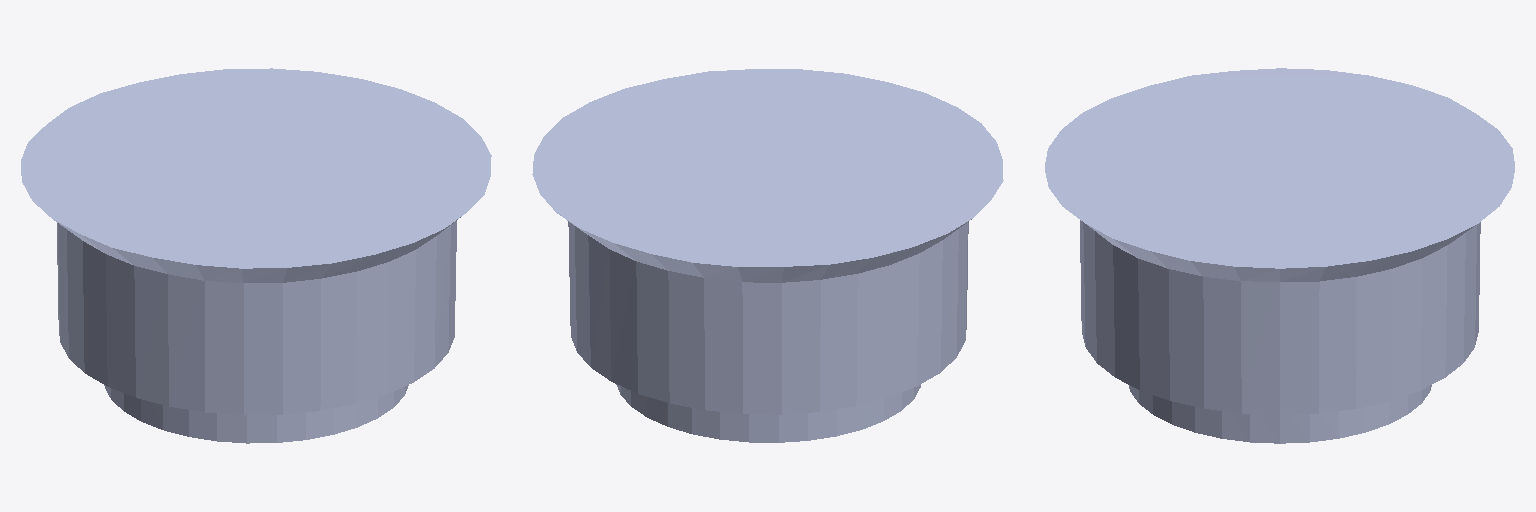
The robot description file, URDF, robot "P4.SLDASM":
<robot name="P4.SLDASM">
	<link name="Base">
		<inertial>
			<origin xyz="-0.0082097 0.0025216 -0.14078" rpy="0 0 0" />
			<mass value="11.969" />
			<inertia ixx="0.025218" ixy="-0.0010866" ixz="0.0012177" iyy="0.030018" iyz="0.00020314" izz="0.048411" />
		</inertial>
		<visual>
			<origin xyz="0 0 0" rpy="0 0 0" />
			<geometry>
				<mesh filename="meshes/P4/Base.STL" />
			</geometry>
			<material name="">
				<color rgba="0.79216 0.81961 0.93333 1" />
			</material>
		</visual>
		<collision>
			<origin xyz="0 0 0" rpy="0 0 0" />
			<geometry>
				<mesh filename="meshes/P4/Base_collision.STL" />
			</geometry>
		</collision>
	</link>
	<link name="Link_0">
		<inertial>
			<origin xyz="0.163303065400731 -4.81317444424627E-07 -0.0199129806957488" rpy="0 0 0" />
			<mass value="11.8138142072387" />
			<inertia ixx="0.022665817936265195" ixy="8.407964966035086e-06" ixz="-0.00554305607961208" iyy="0.1719591923681325" iyz="-4.222180950686796e-07" izz="0.18162079843609566" />
		</inertial>
		<visual>
			<origin xyz="0 0 0" rpy="0 0 0" />
			<geometry>
				<mesh filename="meshes/P4/Link_0.STL" />
			</geometry>
			<material name="">
				<color rgba="0.79216 0.81961 0.93333 1" />
			</material>
		</visual>
		<collision>
			<origin xyz="0 0 0" rpy="0 0 0" />
			<geometry>
				<mesh filename="meshes/P4/Link_0_a_collision.STL" />
			</geometry>
		</collision>
		<collision>
			<origin xyz="0 0 0" rpy="0 0 0" />
			<geometry>
				<mesh filename="meshes/P4/Link_0_b_collision.STL" />
			</geometry>
		</collision>
		<collision>
			<origin xyz="0 0 0" rpy="0 0 0" />
			<geometry>
				<mesh filename="meshes/P4/Link_0_c_collision.STL" />
			</geometry>
		</collision>
	</link>
	<joint name="Joint_0" type="continuous">
		<origin xyz="0.0 0.0 0.0" rpy="0 0 0" />
		<parent link="Base" />
		<child link="Link_0" />
		<axis xyz="0 0 1" />
		<limit lower="0" upper="0" effort="0" velocity="0" />
	</joint>
	<link name="Link_1">
		<inertial>
			<origin xyz="0.0225468852658368 1.65637178824413E-05 0.0268405681124005" rpy="0 0 0" />
			<mass value="4.20821788232458" />
			<inertia ixx="0.005453924976162778" ixy="-1.3161749130459695e-06" ixz="-0.00010182112684579557" iyy="0.00947374577056641" iyz="-1.4226030768616688e-08" izz="0.011576283010229317" />
		</inertial>
		<visual>
			<origin xyz="0 0 0" rpy="0 0 0" />
			<geometry>
				<mesh filename="meshes/P4/Link_1.STL" />
			</geometry>
			<material name="">
				<color rgba="0.79216 0.81961 0.93333 1" />
			</material>
		</visual>
		<collision>
			<origin xyz="0 0 0" rpy="0 0 0" />
			<geometry>
				<mesh filename="meshes/P4/Link_1_collision.STL" />
			</geometry>
		</collision>
	</link>
	<joint name="Joint_1" type="continuous">
		<origin xyz="0.37502 0 0.076637" rpy="0 0 0" />
		<parent link="Link_0" />
		<child link="Link_1" />
		<axis xyz="0 0 1" />
		<limit lower="0" upper="0" effort="0" velocity="0" />
	</joint>
	<link name="Link_2">
		<inertial>
			<origin xyz="-7.95840576487544E-05 -0.0323353341384257 0.0554626231739176" rpy="0 0 0" />
			<mass value="2.22462215939643" />
			<inertia ixx="0.006012004182390321" ixy="5.74465130673749e-07" ixz="-8.09955717317447e-08" iyy="0.005492624336623406" iyz="0.0017414014760656932" izz="0.0036359650259675616" />
		</inertial>
		<visual>
			<origin xyz="0 0 0" rpy="0 0 0" />
			<geometry>
				<mesh filename="meshes/P4/Link_2.STL" />
			</geometry>
			<material name="">
				<color rgba="0.79216 0.81961 0.93333 1" />
			</material>
		</visual>
		<collision>
			<origin rpy="0.367174 0 0" xyz="-0.002 -0.0225 0.0395" />
			<geometry>
				<capsule radius="0.066" length="0.125356" />
			</geometry>
		</collision>
		<collision>
			<origin rpy="-0.367174 0 0" xyz="-0.002 0.0225 0.0395" />
			<geometry>
				<capsule radius="0.066" length="0.125356" />
			</geometry>
		</collision>
		<collision>
			<origin rpy="1.570796 0 0" xyz="-0.002 0 0.107" />
			<geometry>
				<capsule radius="0.066" length="0.09" />
			</geometry>
		</collision>
	</link>
	<joint name="Joint_2" type="continuous">
		<origin xyz="0.1645 0 0.025" rpy="0 1.5708 0" />
		<parent link="Link_1" />
		<child link="Link_2" />
		<axis xyz="0 0 1" />
		<limit lower="0" upper="0" effort="0" velocity="0" />
	</joint>
	<link name="Link_3">
		<inertial>
			<origin xyz="-0.111386270924211 -0.064461763956462 0.057248957436866" rpy="0 0 0" />
			<mass value="6.98383900274924" />
			<inertia ixx="0.02337229063757182" ixy="-0.026811824136969722" ixz="-0.004907570831452568" iyy="0.06870234062730633" iyz="-0.002444438274402383" izz="0.08201720534182669" />
		</inertial>
		<visual>
			<origin xyz="0 0 0" rpy="0 0 0" />
			<geometry>
				<mesh filename="meshes/P4/Link_3.STL" />
			</geometry>
			<material name="">
				<color rgba="0.79216 0.81961 0.93333 1" />
			</material>
		</visual>
		<collision>
			<origin xyz="0 0 0" rpy="0 0 0" />
			<geometry>
				<mesh filename="meshes/P4/Link_3_a_collision.STL" />
			</geometry>
		</collision>
		<collision>
			<origin xyz="0 0 0" rpy="0 0 0" />
			<geometry>
				<mesh filename="meshes/P4/Link_3_b_collision.STL" />
			</geometry>
		</collision>
	</link>
	<joint name="Joint_3" type="continuous">
		<origin xyz="0 -0.045 0.1088" rpy="-1.5708 0 0" />
		<parent link="Link_2" />
		<child link="Link_3" />
		<axis xyz="0 0 1" />
		<limit lower="0" upper="0" effort="0" velocity="0" />
	</joint>
	<link name="Link_4">
		<inertial>
			<origin xyz="-1.31475746999454E-05 -0.0352287665107 0.0430677792936942" rpy="0 0 0" />
			<mass value="1.21952641664514" />
			<inertia ixx="0.0024653454111400776" ixy="1.210836356447871e-07" ixz="-2.0387634899358056e-07" iyy="0.002167498200744964" iyz="0.0007517713055408743" izz="0.001517356078455403" />
		</inertial>
		<visual>
			<origin xyz="0 0 0" rpy="0 0 0" />
			<geometry>
				<mesh filename="meshes/P4/Link_4.STL" />
			</geometry>
			<material name="">
				<color rgba="0.79216 0.81961 0.93333 1" />
			</material>
		</visual>
		<collision>
			<origin xyz="0 0 0" rpy="0 0 0" />
			<geometry>
				<mesh filename="meshes/P4/Link_4_collision.STL" />
			</geometry>
		</collision>
	</link>
	<joint name="Joint_4" type="continuous">
		<origin xyz="-0.25712 -0.21612 0.045" rpy="1.5708 0 0" />
		<parent link="Link_3" />
		<child link="Link_4" />
		<axis xyz="0 0 1" />
		<limit lower="0" upper="0" effort="0" velocity="0" />
	</joint>
	<link name="Link_5">
		<inertial>
			<origin xyz="8.67535010040665E-06 0.0392187712285871 0.061636407805382" rpy="0 0 0" />
			<mass value="2.97160492714599" />
			<inertia ixx="0.003693629897076875" ixy="-4.177749217053923e-07" ixz="-5.971171219125604e-07" iyy="0.001913810356141183" iyz="8.039753691931062e-05" izz="0.004199925242563823" />
		</inertial>
		<visual>
			<origin xyz="0 0 0" rpy="0 0 0" />
			<geometry>
				<mesh filename="meshes/P4/Link_5.STL" />
			</geometry>
			<material name="">
				<color rgba="0.79216 0.81961 0.93333 1" />
			</material>
		</visual>
		<collision>
			<origin xyz="0 0 0" rpy="0 0 0" />
			<geometry>
				<mesh filename="meshes/P4/Link_5_collision.STL" />
			</geometry>
		</collision>
	</link>
	<joint name="Joint_5" type="continuous">
		<origin xyz="0 -0.052 0.092" rpy="-1.5708 -1.5708 0" />
		<parent link="Link_4" />
		<child link="Link_5" />
		<axis xyz="0 0 1" />
		<limit lower="0" upper="0" effort="0" velocity="0" />
	</joint>
	<link name="End_Effector">
		<inertial>
			<origin xyz="0.00436984115892222 -0.00595567878104508 0.0633840544783989" rpy="0 0 0" />
			<mass value="1.12558655525532" />
			<inertia ixx="0.00041787629971046627" ixy="3.886096963661389e-05" ixz="-2.8252369277839013e-05" iyy="0.000380638221022053" iyz="4.182189487878832e-05" izz="0.000647820842857033" />
		</inertial>
		<visual>
			<origin xyz="0 0 0" rpy="0 0 0" />
			<geometry>
				<mesh filename="meshes/P4/End_Effector_Straight.STL" />
			</geometry>
			<material name="">
				<color rgba="0.79216 0.81961 0.93333 1" />
			</material>
		</visual>
		<collision>
		<!-- Collision model for drill motor connector -->
			<origin xyz="-0.00921571 -0.06659065 0.05996125" rpy="1.57079633 0.0 0.78539816" />
			<geometry>
				<capsule radius="0.009" length="0.054" />
			</geometry>
		</collision>
		<collision>
			<origin xyz="0 0 0" rpy="0 0 0" />
			<geometry>
				<mesh filename="meshes/P4/End_Effector_Straight_a_collision.STL" />
			</geometry>
		</collision>
		<collision>
			<origin xyz="0 0 0" rpy="0 0 0" />
			<geometry>
				<mesh filename="meshes/P4/End_Effector_Straight_b_collision.STL" />
			</geometry>
		</collision>
		<collision>
			<origin xyz="0 0 0" rpy="0 0 0" />
			<geometry>
				<mesh filename="meshes/P4/End_Effector_Straight_c_collision.STL" />
			</geometry>
		</collision>
	</link>
	<joint name="Joint_6" type="continuous">
		<origin xyz="0 0.13375 0.052" rpy="-1.5708 1.5708 0" />
		<parent link="Link_5" />
		<child link="End_Effector" />
		<axis xyz="0 0 1" />
		<limit lower="0" upper="0" effort="0" velocity="0" />
	</joint>
	<link name="Weight">
		<inertial>
			<origin xyz="-0.00663058 0.01836489 0.08445825" rpy="0.0 -1.3788 -1.2243" />
			<mass value="10.0" />
			<inertia ixx="4.16667e-2" ixy="0.0" ixz="0.0" iyy="1.66667e-1" iyz="0" izz="1.66667e-1" />
		</inertial>
	</link>
	<joint name="Sensor Flange" type="fixed">
		<origin xyz="0.0 0.0 0.0987" rpy="0.0 0.0 2.7951" />
		<parent link="End_Effector" />
		<child link="Weight" />
		<axis xyz="0 0 0" />
	</joint>
</robot>

--- Facts derived from the render (not from the file) ---
The picture shows the robot from 3 angles, left to right: view 1: azimuth 30°, elevation 25°; view 2: azimuth 150°, elevation 25°; view 3: azimuth 270°, elevation 25°; orthographic projection.
Robot: P4.SLDASM — 9 links, 8 joints (7 continuous, 1 fixed); root link Base; default pose: all joints at 0.
Visible links, largest first — view 1: Base; view 2: Base; view 3: Base.
Boxes of the visible links, bbox=[...] form: Base: bbox=[21, 68, 491, 443]; Base: bbox=[532, 69, 1003, 442]; Base: bbox=[1045, 68, 1514, 443].
Bounding box of the posed robot: 0.1048 × 0.104 × 0.0513 m (x, y, z).
Meshes: 8 distinct files referenced, 1 mesh visuals loaded (1 binary STL); not drawn: 7 (reference not matched to a file when rendering).